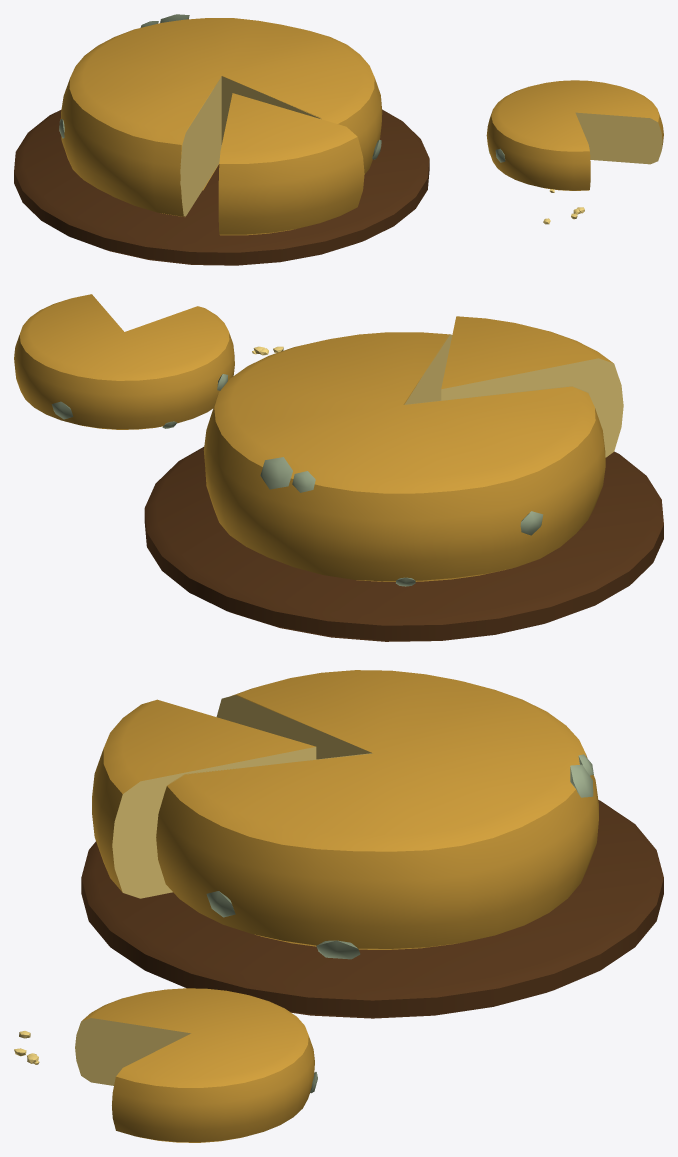
File: kaeselaib_kaputt.glb
3 renders of one model, top to bottom at view 1: azimuth 30°, elevation 25°; view 2: azimuth 150°, elevation 25°; view 3: azimuth 270°, elevation 25°, orthographic. The views are drawn at different scales.
Parts seen in each view (by area): view 1: kaeselaib_kaputt; view 2: kaeselaib_kaputt; view 3: kaeselaib_kaputt.
Part boxes in pixels (box(x1,y1,x2,y2)): kaeselaib_kaputt: box(14, 14, 663, 265); kaeselaib_kaputt: box(14, 294, 663, 641); kaeselaib_kaputt: box(14, 670, 663, 1142).
Size of the model in its own units: 0.6804 by 0.1313 by 0.5021.
